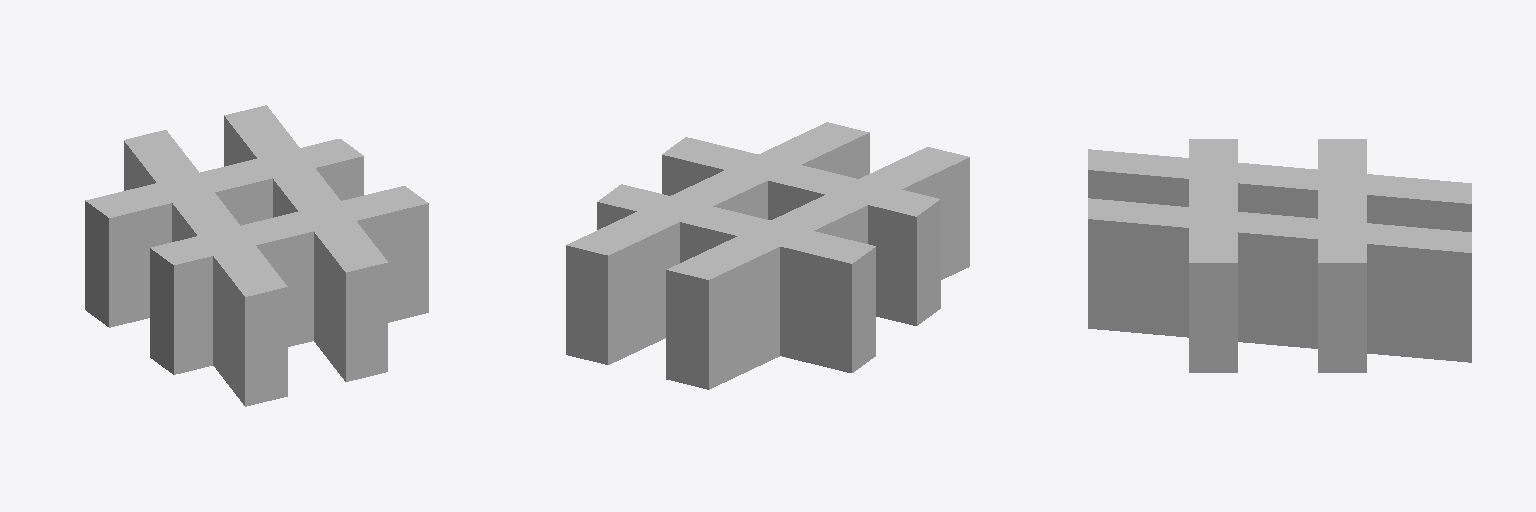
Rendered from wallAscii.obj.
The picture shows the model from 3 angles: view 1: azimuth 30°, elevation 25°; view 2: azimuth 150°, elevation 25°; view 3: azimuth 270°, elevation 25°; orthographic projection.
Parts seen in each view (by area): view 1: mesh04; view 2: mesh04; view 3: mesh04.
Part boxes in pixels (x1,y1,x2,y2): mesh04: (85,105,428,406); mesh04: (566,122,969,389); mesh04: (1088,139,1471,372).
Size of the model in its own units: 0.73 by 0.3 by 0.95.